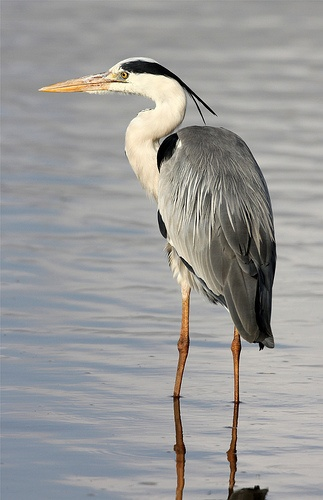heron: (35, 57, 283, 475)
